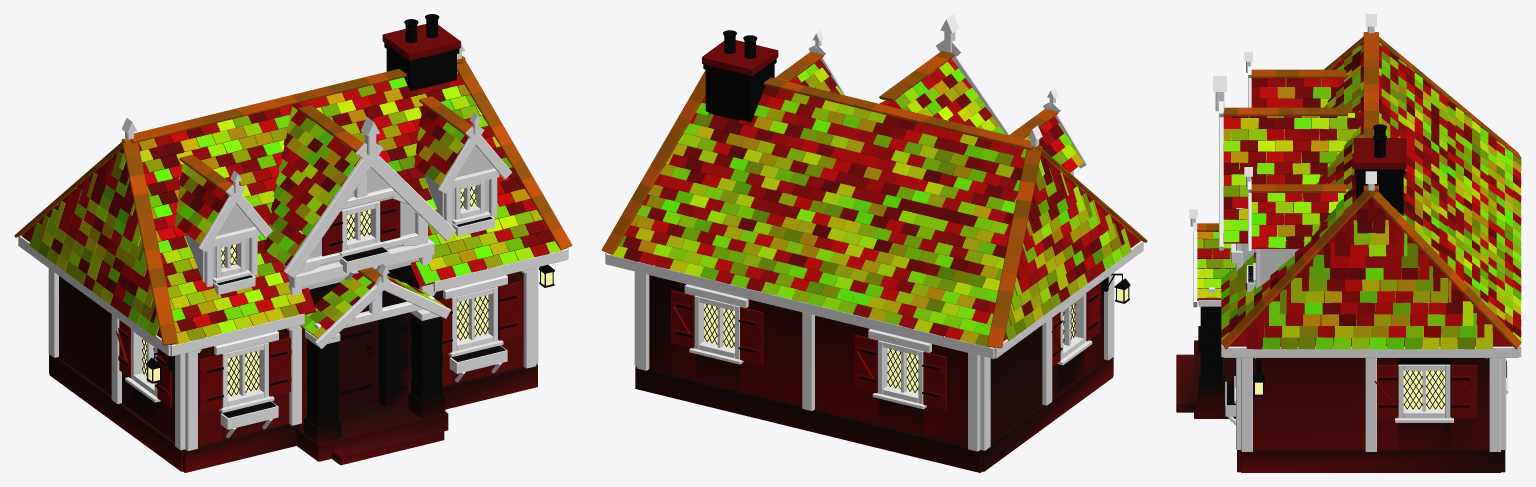
Rendered from SilverbrookCottage6.fbx.
The picture shows the model from 3 angles, left to right: view 1: azimuth 30°, elevation 25°; view 2: azimuth 150°, elevation 25°; view 3: azimuth 270°, elevation 25°; orthographic projection. The views are drawn at different scales.
Visible parts, largest first — view 1: SM_SBCottage6_Roof, SM_SBCottage6_Timber, SM_SBCottage6_Masonry, SM_SBCottage6_Details, SM_SBCottage6_Plaster; view 2: SM_SBCottage6_Roof, SM_SBCottage6_Masonry, SM_SBCottage6_Timber, SM_SBCottage6_Details; view 3: SM_SBCottage6_Roof, SM_SBCottage6_Masonry, SM_SBCottage6_Timber, SM_SBCottage6_Details, SM_SBCottage6_Plaster.
Part boxes in pixels (bbox=[...]): SM_SBCottage6_Roof: bbox=[14, 56, 572, 345]; SM_SBCottage6_Timber: bbox=[18, 43, 568, 450]; SM_SBCottage6_Masonry: bbox=[49, 24, 537, 472]; SM_SBCottage6_Details: bbox=[116, 14, 554, 417]; SM_SBCottage6_Plaster: bbox=[185, 145, 493, 289]; SM_SBCottage6_Roof: bbox=[601, 51, 1147, 348]; SM_SBCottage6_Masonry: bbox=[635, 40, 1113, 472]; SM_SBCottage6_Timber: bbox=[605, 14, 1143, 451]; SM_SBCottage6_Details: bbox=[671, 30, 1130, 409]; SM_SBCottage6_Roof: bbox=[1197, 32, 1521, 349]; SM_SBCottage6_Masonry: bbox=[1176, 138, 1505, 472]; SM_SBCottage6_Timber: bbox=[1189, 14, 1521, 451]; SM_SBCottage6_Details: bbox=[1226, 124, 1506, 418]; SM_SBCottage6_Plaster: bbox=[1241, 240, 1304, 285].
Bounding box in the file's own units: 786 × 596 × 585.
